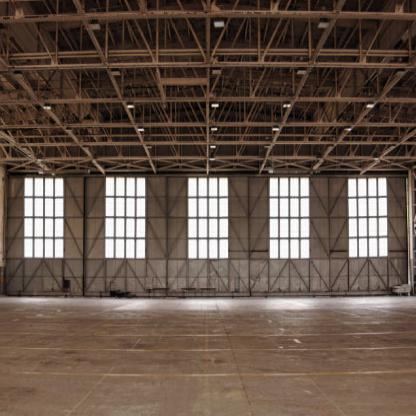Window: (269, 176, 310, 260), (24, 177, 65, 259), (188, 178, 228, 259), (348, 180, 388, 256), (106, 177, 144, 256)
